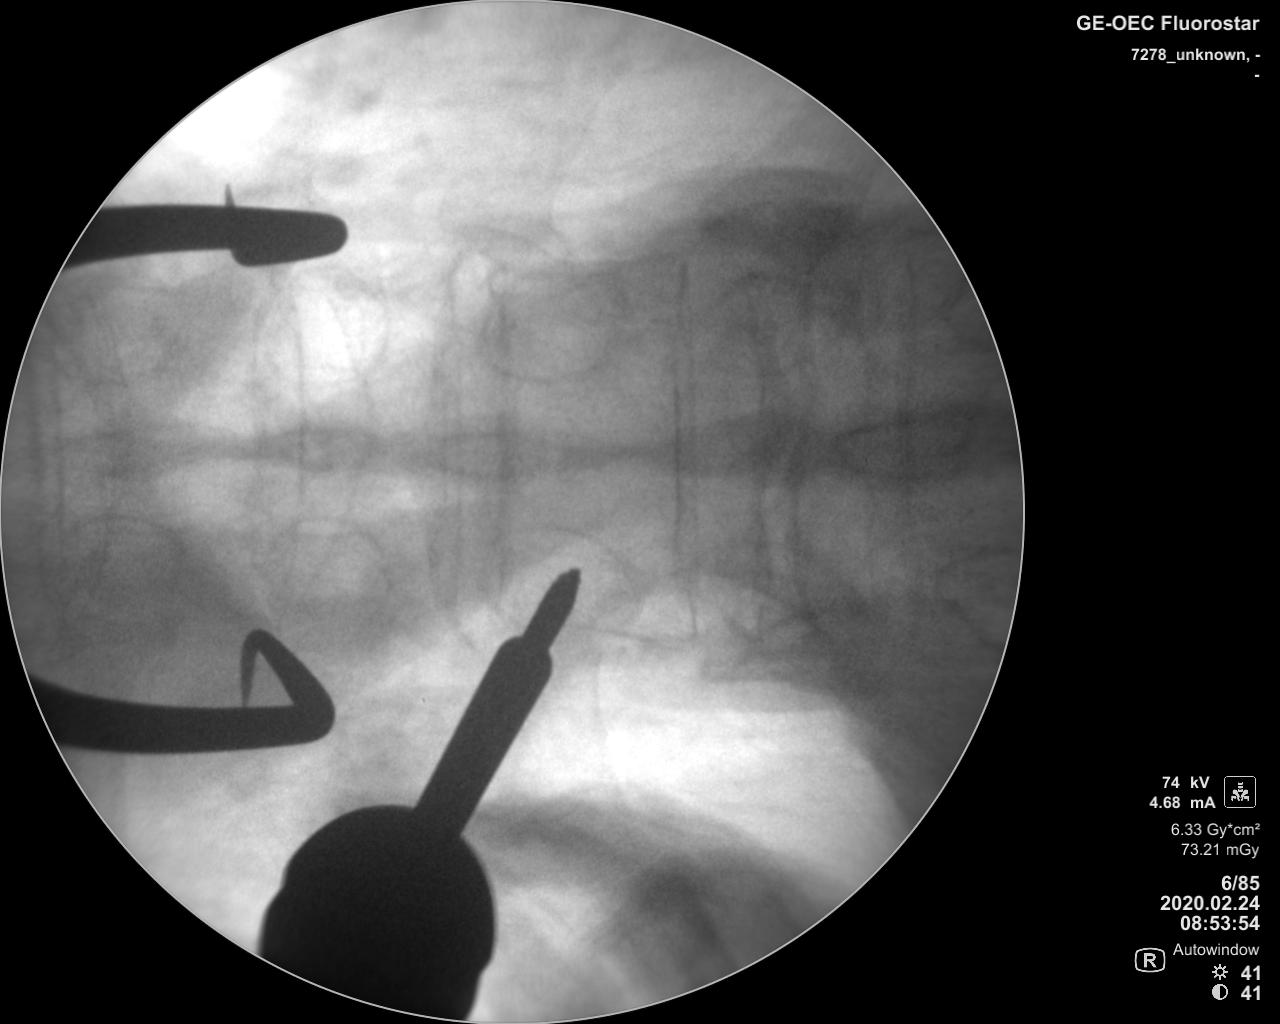eyes: (491, 518, 645, 632), (480, 284, 624, 387), (262, 510, 399, 618), (59, 510, 188, 618)
line: (243, 265, 310, 619), (665, 235, 704, 648), (425, 255, 467, 639), (482, 254, 515, 621)
nose: (624, 408, 806, 484), (413, 417, 599, 484), (236, 415, 391, 480), (74, 418, 225, 484), (833, 411, 974, 481)
